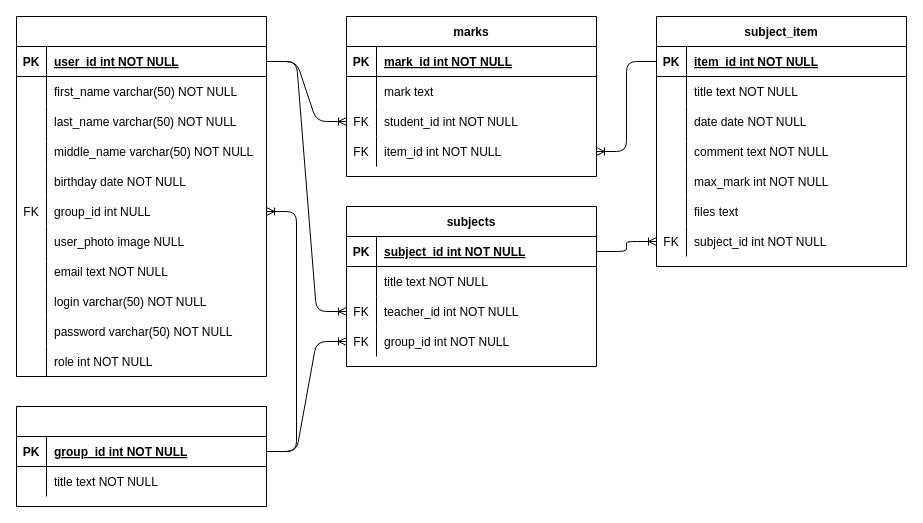
This 923x523 diagram has some shape labels left out. The box of each missing label's shape, as (x1, y1, x2, y2) in pixels:
groups: (16, 406, 266, 506)
users: (16, 16, 266, 376)
